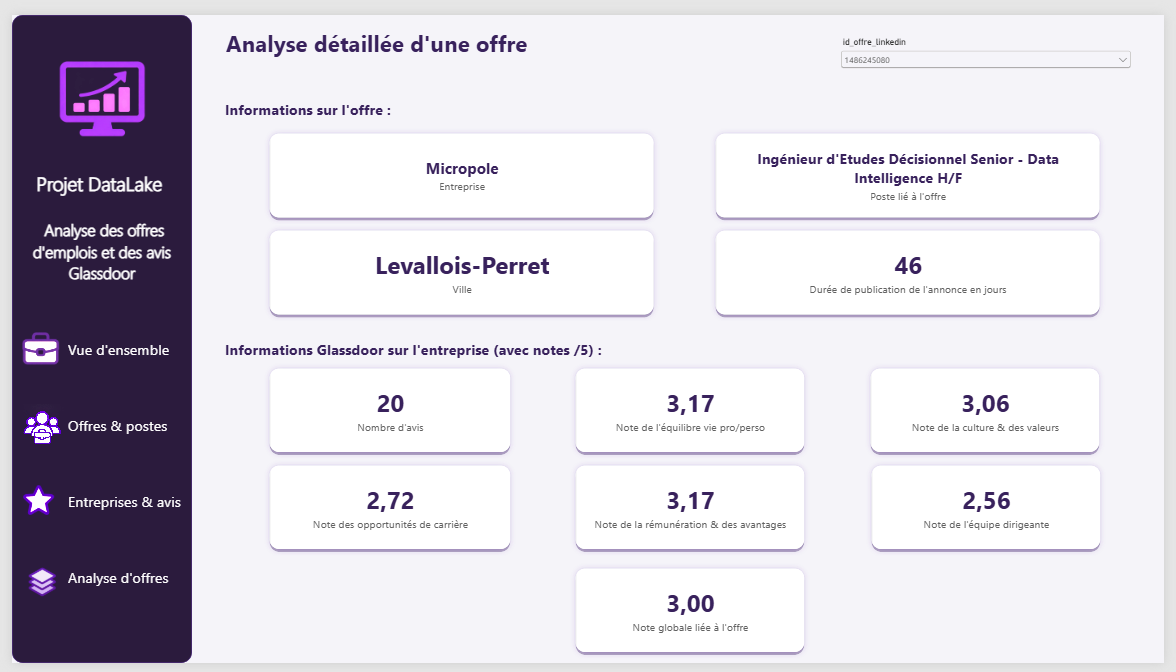

The dashboard page shown, as its layout file describes it:
{"tool":"powerbi","page":{"name":"Analyse détaillée d'une offre","canvas":[1920,1080],"ordinal":3},"visuals":[{"type":"shape","box":[0,0,300,1080],"z":0,"group":"g1"},{"type":"textbox","box":[356,21.1,848.9,98.9],"z":1000},{"type":"image","box":[6.7,528.3,81.7,55],"z":1000,"group":"g1"},{"type":"textbox","box":[355.6,140,300,46.7],"z":2000},{"type":"image","box":[13.3,783.3,61.7,50],"z":2000,"group":"g1"},{"type":"textbox","box":[13.3,258.3,273.3,213.3],"z":3000,"group":"g1"},{"type":"textbox","box":[355.6,540,741.1,76.7],"z":3000},{"type":"cardVisual","fields":{"Data":["Mesures.Nom entreprise sélectionnée"]},"box":[418.9,186.7,662.2,162.2],"z":4000},{"type":"textbox","box":[93.3,540,193.3,498.9],"z":4000,"group":"g1"},{"type":"cardVisual","fields":{"Data":["Mesures.Ville sélectionnée"]},"box":[418.9,348.9,662.2,162.2],"z":5000},{"type":"cardVisual","fields":{"Data":["Min(Dim poste.intitule_poste)"]},"box":[1162.2,186.7,662.2,162.2],"z":6000},{"type":"image","box":[13.3,648.3,75,76.7],"z":6003,"group":"g1"},{"type":"cardVisual","fields":{"Data":["Avg(Fait offres.duree_publication_jours)"]},"box":[1162.2,348.9,662.2,162.2],"z":7000},{"type":"slicer","fields":{"Values":["Fait offres.id_offre_linkedin"]},"box":[1376.7,36.7,493.3,103.3],"z":8000},{"type":"cardVisual","fields":{"Data":["Mesures.Note moyenne Glassdoor des entreprises"]},"box":[418.9,584.4,662.2,162.2],"z":9000},{"type":"group","id":"g1","title":"Groupe 6","box":[0,0,300,1080],"z":10000},{"type":"cardVisual","fields":{"Data":["Mesures.Note moyenne opportunités carrière"]},"box":[418.9,750,662.2,162.2],"z":10000},{"type":"cardVisual","fields":{"Data":["Mesures.Note moyenne équilibre vie pro"]},"box":[1162.2,587.8,662.2,162.2],"z":11000},{"type":"image","box":[75,76.7,150,126.7],"z":11002,"group":"g1"},{"type":"cardVisual","fields":{"Data":["Mesures.Note moyenne équipe dirigeante"]},"box":[1162.2,750,662.2,162.2],"z":12000},{"type":"image","box":[6.7,912.2,75.6,65.6],"z":12000},{"type":"cardVisual","fields":{"Data":["Mesures.Note moyenne rémunération"]},"box":[418.9,917.8,662.2,162.2],"z":13000},{"type":"cardVisual","fields":{"Data":["Mesures.Nombre d'avis"]},"box":[1162.2,917.8,662.2,162.2],"z":14000}]}

Visuals, with their boxes on the page's 1920x1080 design canvas (x1, y1, x2, y2). These are canvas units, not pixel positions in the 1176x672 screenshot, which may show the page scaled, cropped or inside an application window:
shape: <bbox>0, 0, 300, 1080</bbox>
textbox: <bbox>356, 21, 1205, 120</bbox>
image: <bbox>7, 528, 88, 583</bbox>
textbox: <bbox>356, 140, 656, 187</bbox>
image: <bbox>13, 783, 75, 833</bbox>
textbox: <bbox>13, 258, 287, 472</bbox>
textbox: <bbox>356, 540, 1097, 617</bbox>
cardVisual - Mesures.Nom entreprise sélectionnée: <bbox>419, 187, 1081, 349</bbox>
textbox: <bbox>93, 540, 287, 1039</bbox>
cardVisual - Mesures.Ville sélectionnée: <bbox>419, 349, 1081, 511</bbox>
cardVisual - Min(Dim poste.intitule_poste): <bbox>1162, 187, 1824, 349</bbox>
image: <bbox>13, 648, 88, 725</bbox>
cardVisual - Avg(Fait offres.duree_publication_jours): <bbox>1162, 349, 1824, 511</bbox>
slicer - Fait offres.id_offre_linkedin: <bbox>1377, 37, 1870, 140</bbox>
cardVisual - Mesures.Note moyenne Glassdoor des entreprises: <bbox>419, 584, 1081, 747</bbox>
"Groupe 6" group: <bbox>0, 0, 300, 1080</bbox>
cardVisual - Mesures.Note moyenne opportunités carrière: <bbox>419, 750, 1081, 912</bbox>
cardVisual - Mesures.Note moyenne équilibre vie pro: <bbox>1162, 588, 1824, 750</bbox>
image: <bbox>75, 77, 225, 203</bbox>
cardVisual - Mesures.Note moyenne équipe dirigeante: <bbox>1162, 750, 1824, 912</bbox>
image: <bbox>7, 912, 82, 978</bbox>
cardVisual - Mesures.Note moyenne rémunération: <bbox>419, 918, 1081, 1080</bbox>
cardVisual - Mesures.Nombre d'avis: <bbox>1162, 918, 1824, 1080</bbox>
